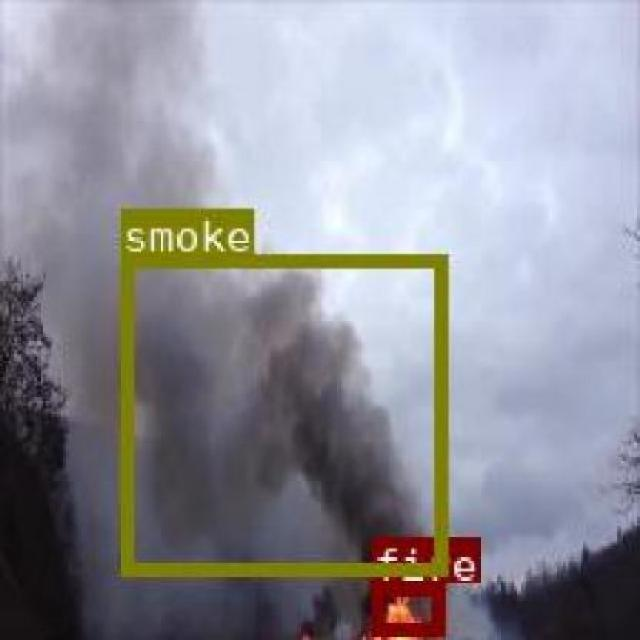Fire: (368, 580, 441, 634)
Smoke: (120, 252, 446, 574)
